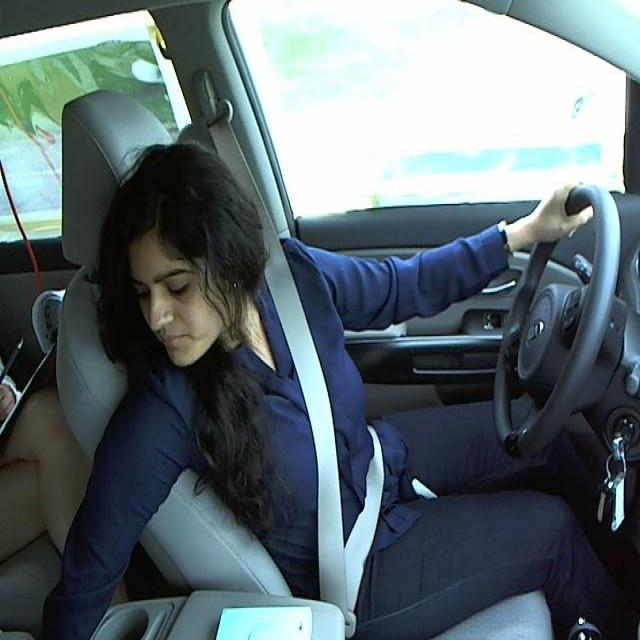seatbelt: (257, 274, 383, 634)
